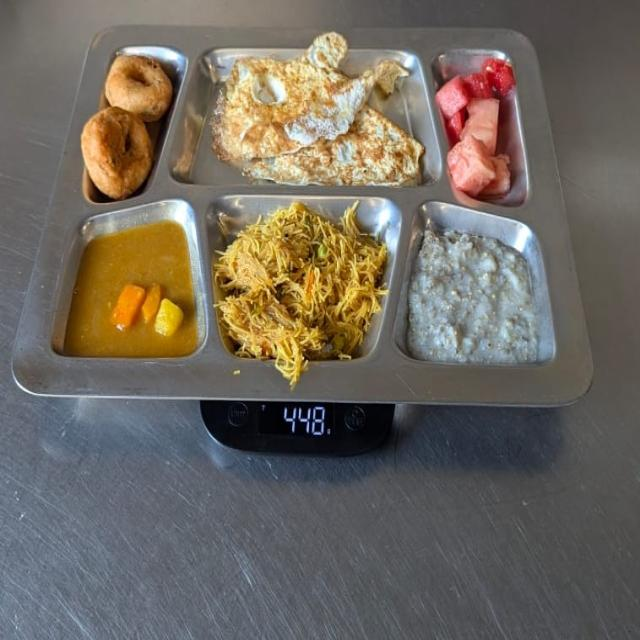Omelette: (211, 28, 427, 193)
Porridge: (406, 221, 550, 377)
Sambhar: (54, 218, 211, 370)
Upma: (218, 197, 396, 386)
Vada: (77, 41, 182, 203)
Watermelon: (432, 54, 526, 209)
